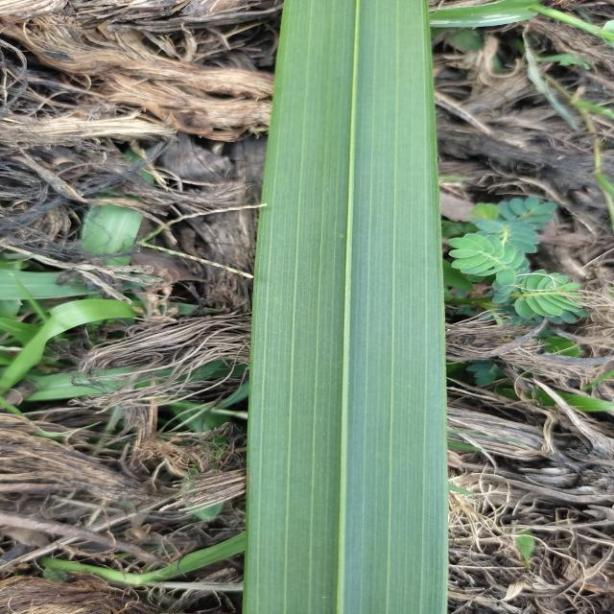Healthy: (242, 7, 449, 614)
